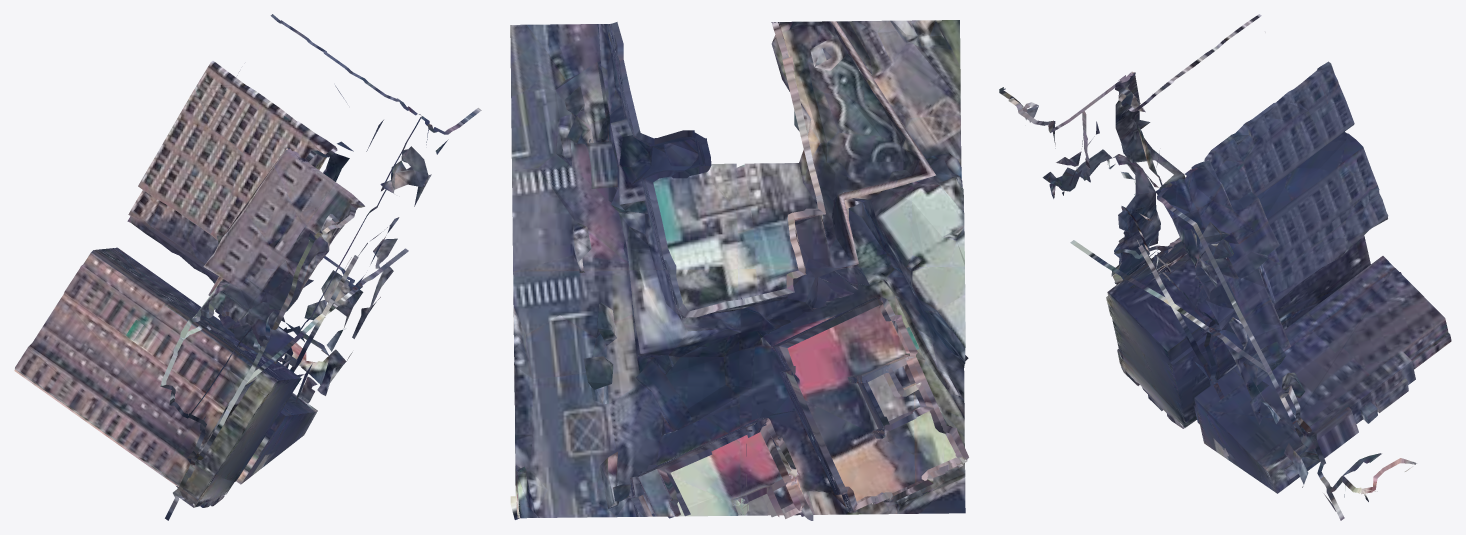
3 renders of one model, left to right at view 1: azimuth 30°, elevation 25°; view 2: azimuth 150°, elevation 25°; view 3: azimuth 270°, elevation 25°, orthographic. The views are drawn at different scales.
Bounding box in the file's own units: 94.22 × 88.59 × 84.69.
Materials: 2 (2 with a texture image).
